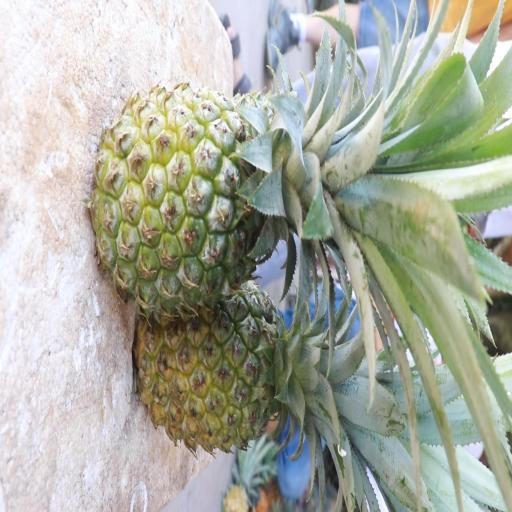------------------------------: (101, 81, 329, 300)
Pineapple - v8 v1: (137, 281, 338, 486)
